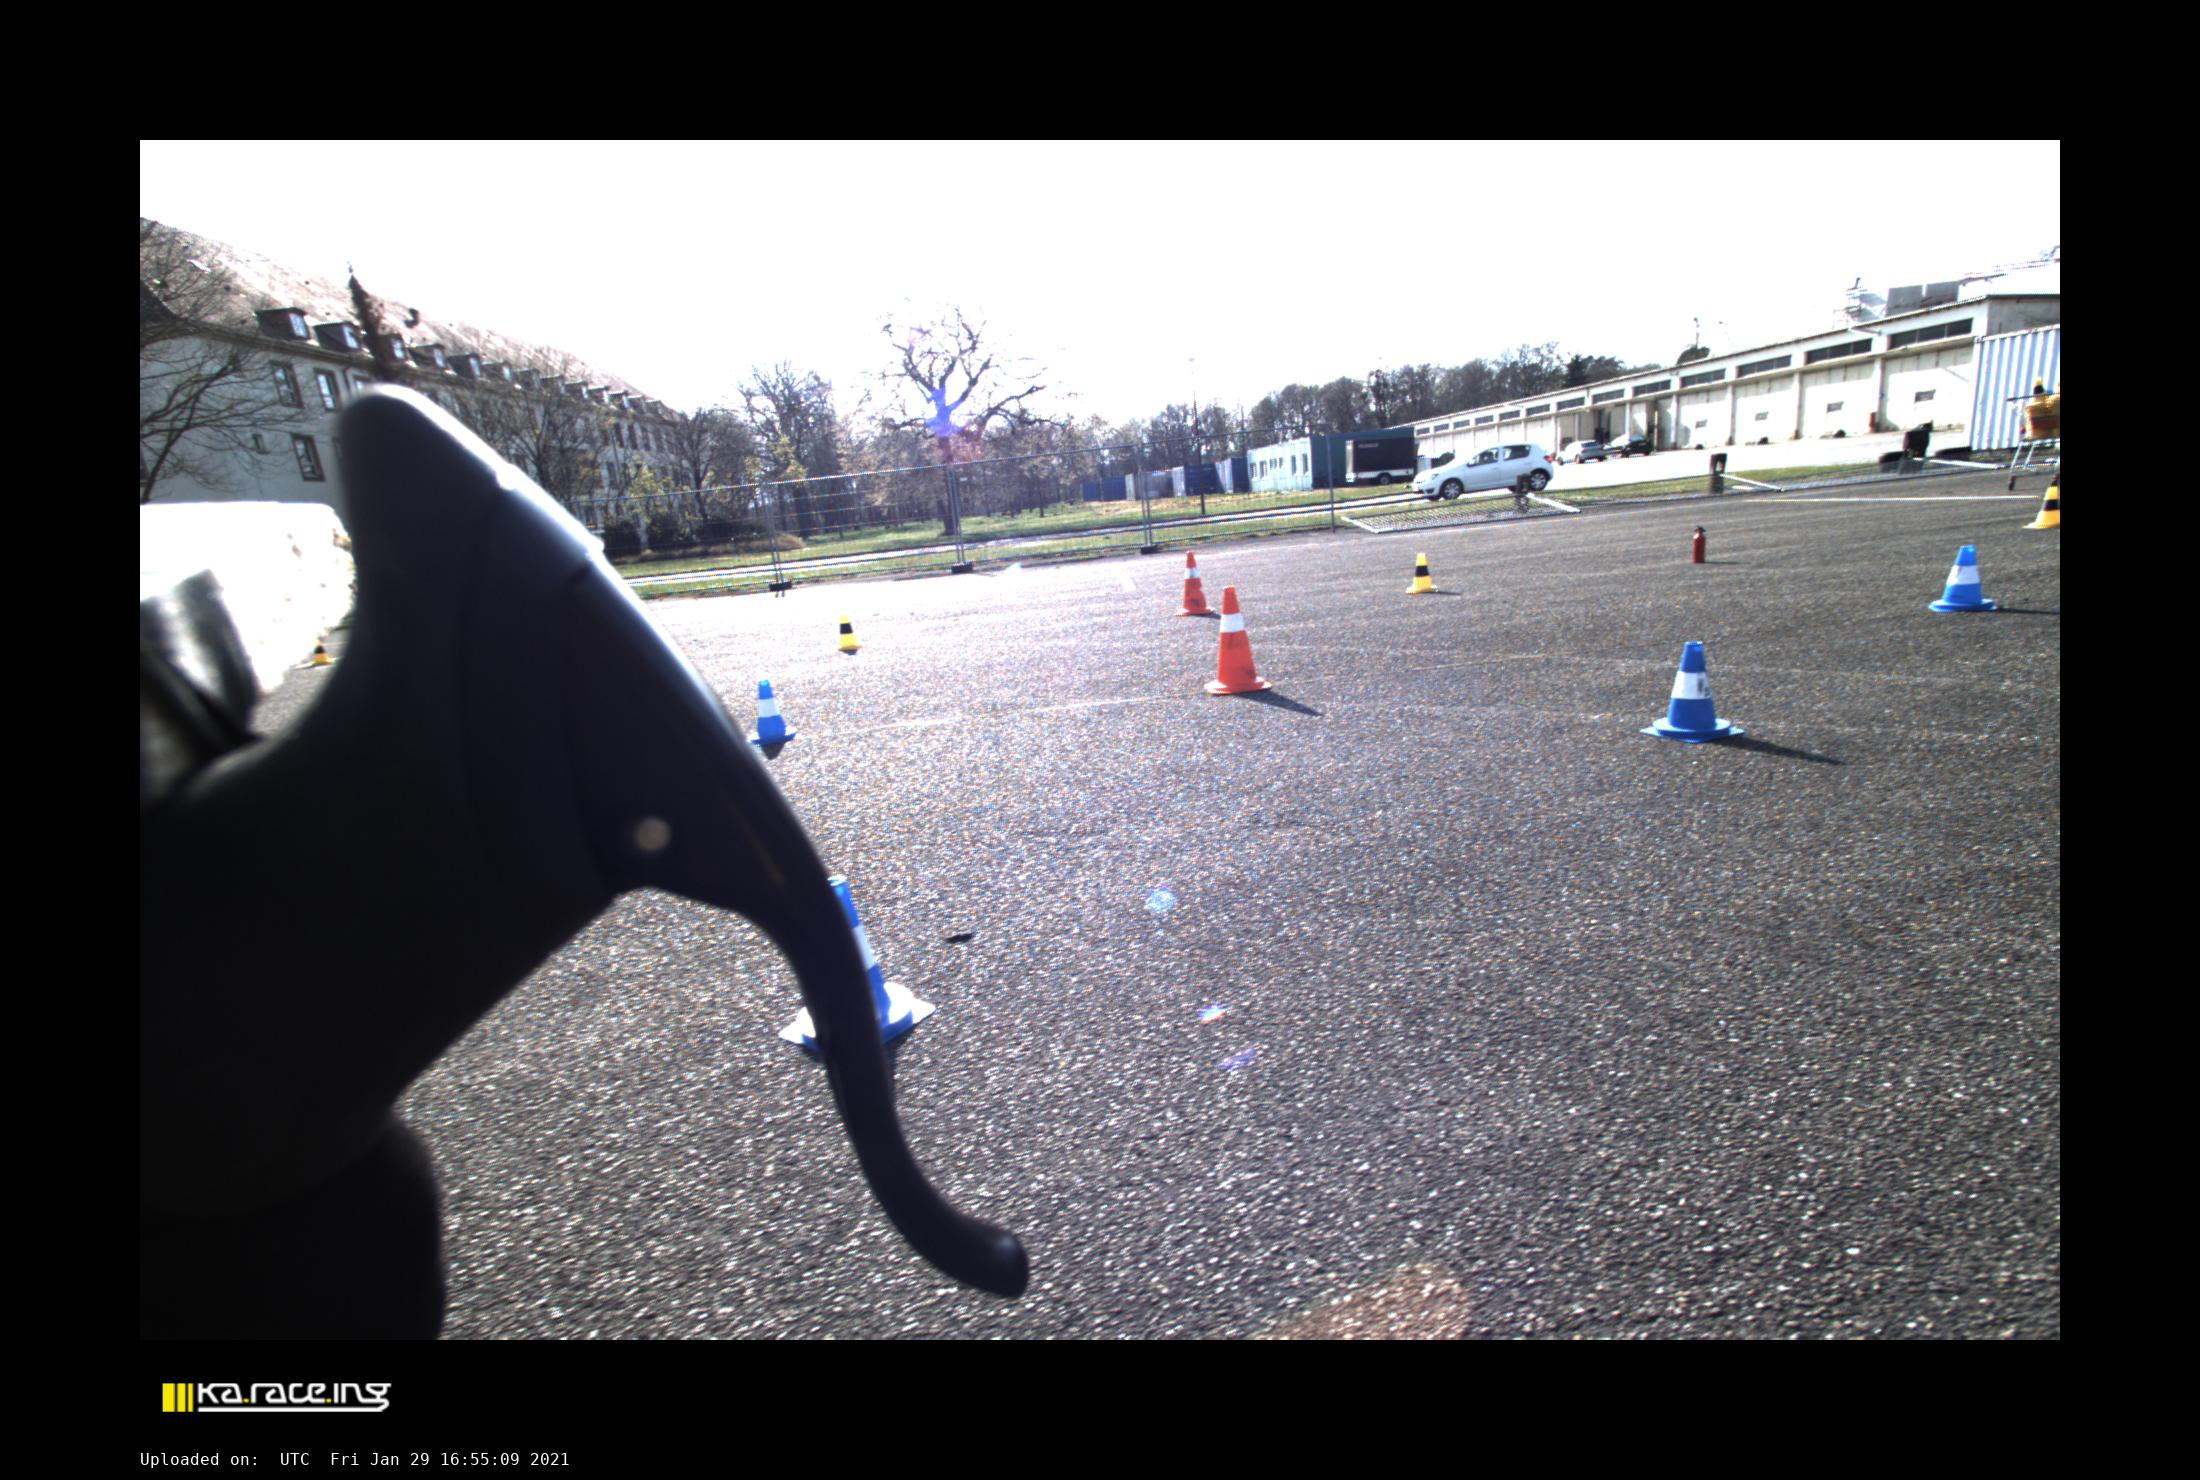blue_cone: (778, 872, 936, 1064), (1638, 641, 1746, 743), (1927, 545, 1998, 611), (747, 677, 798, 745)
large_orange_cone: (1204, 586, 1272, 694), (1174, 552, 1214, 614)
yellow_cone: (2022, 486, 2060, 529), (1406, 552, 1439, 595), (836, 614, 864, 651), (311, 638, 335, 667), (2025, 377, 2050, 406), (2051, 375, 2060, 405)
